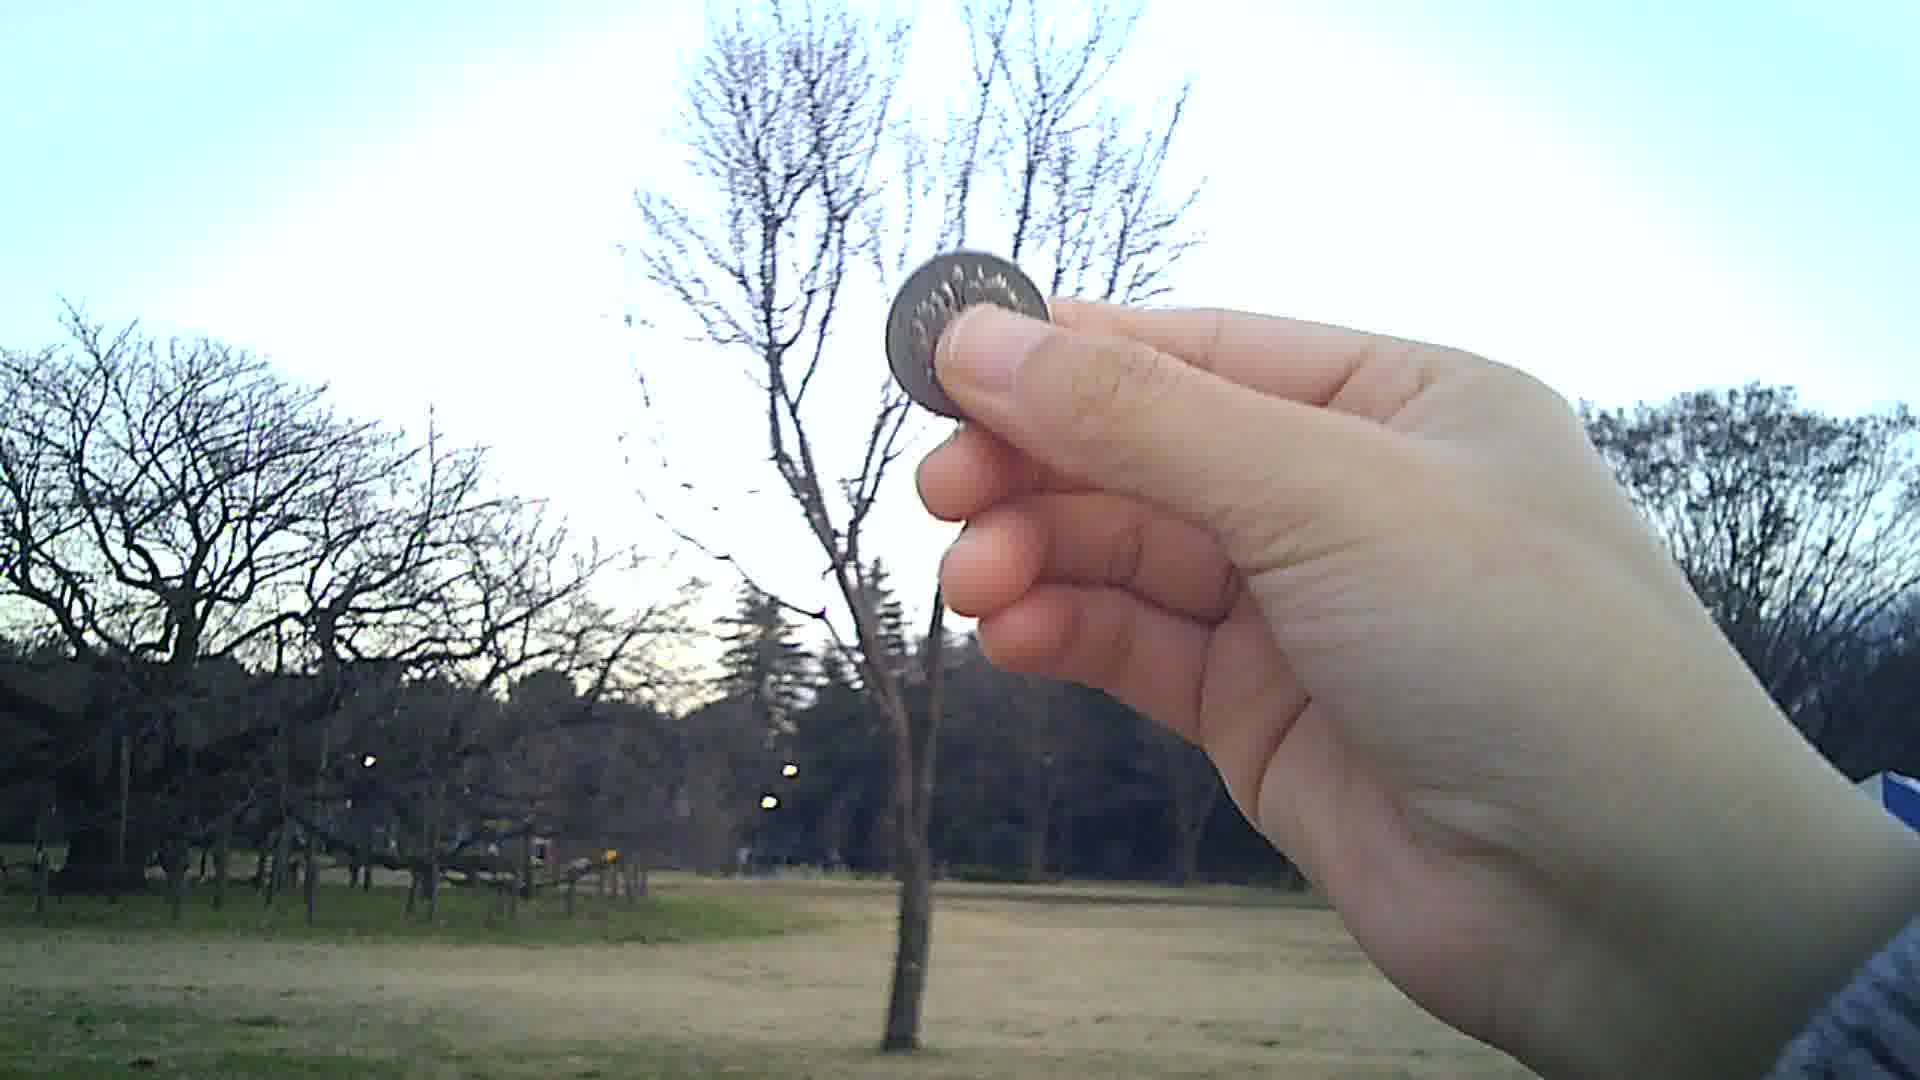100 Yen: (882, 253, 1052, 415)
